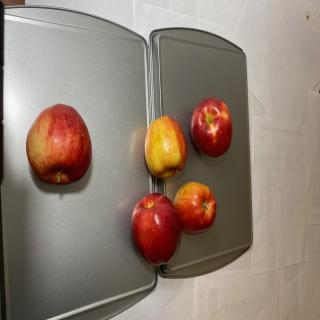Apple: (26, 103, 92, 185), (131, 193, 181, 266), (144, 115, 188, 179), (190, 96, 233, 158), (173, 181, 217, 235)
